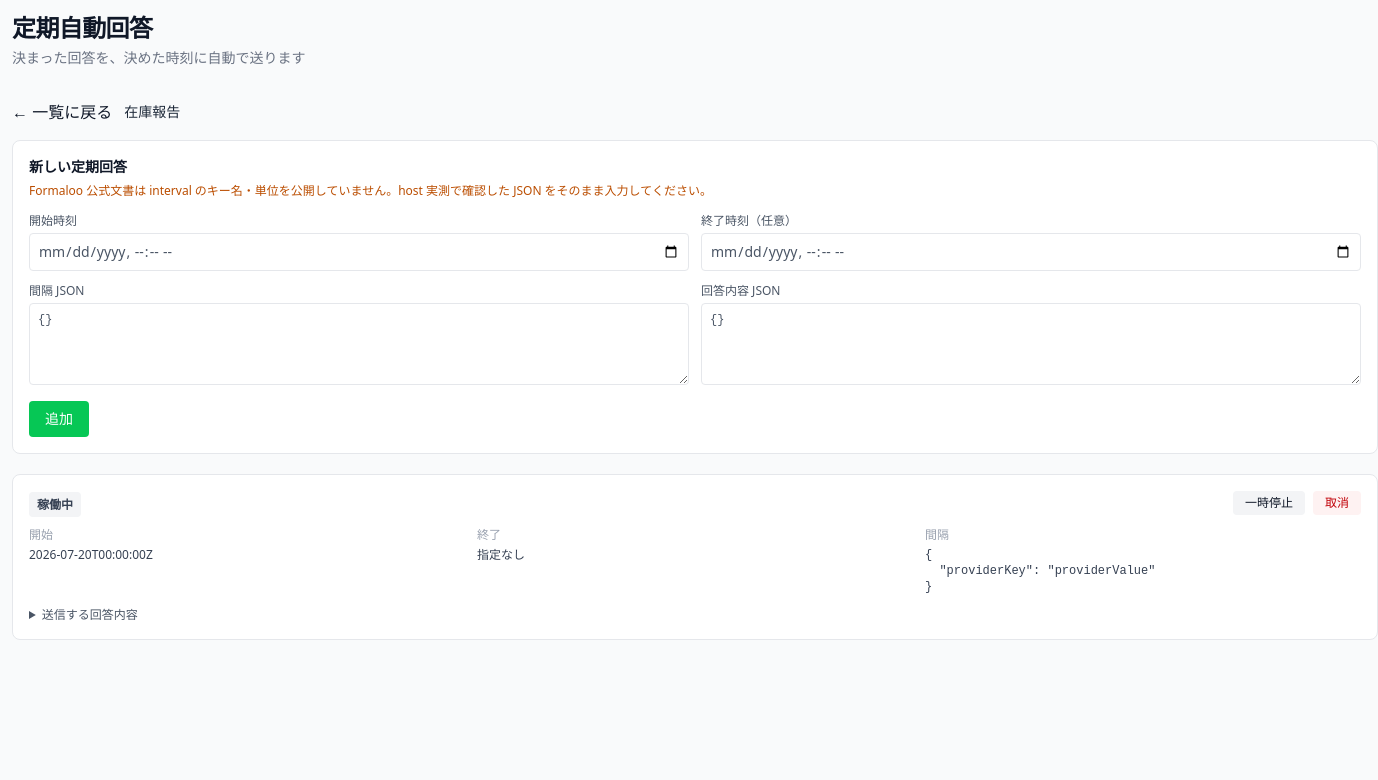
it: 定期自動回答 admin client › lists a form schedule and exposes pause plus inline cancel confirmation
Expected: the element with test id "recurring-row-rs_1" is shown, [12, 474, 1377, 640]
Expected: the text "在庫報告" is shown, [124, 102, 180, 122]
What coordinates should you click on to do the following:
click the button with aria-label "取消: rs_1"
I would click on:
 (1337, 503)
Its box is [1313, 491, 1361, 515].
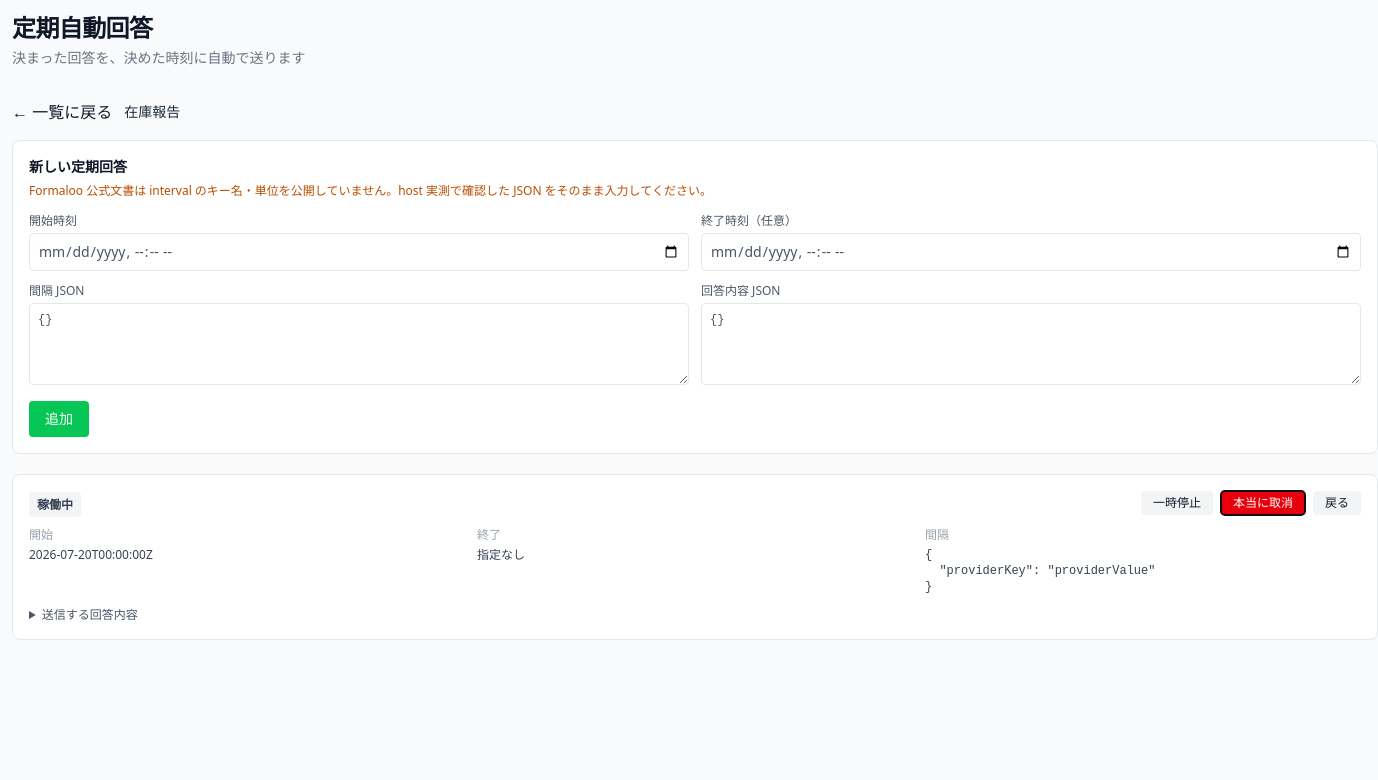
Expected: the button with aria-label "本当に取消: rs_1" is shown, [1221, 491, 1305, 515]
